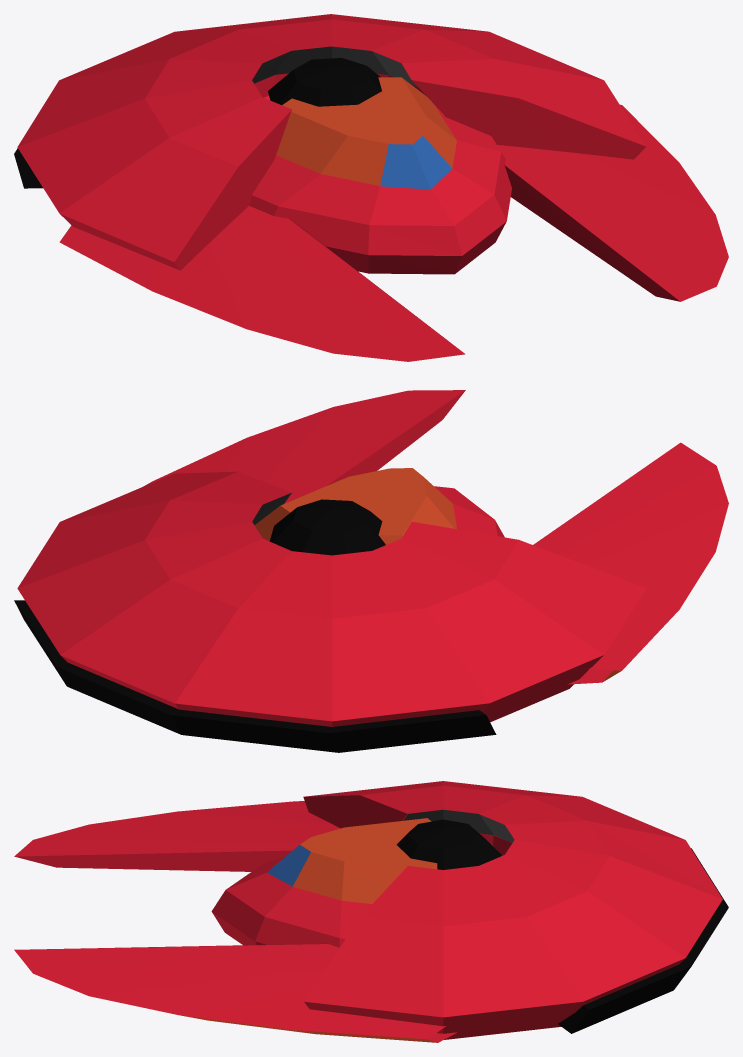
The model's file is cpu.FBX.
3 views of the same model, one above another, from view 1: azimuth 30°, elevation 25°; view 2: azimuth 150°, elevation 25°; view 3: azimuth 270°, elevation 25° (orthographic). The views are drawn at different scales.
Visible parts, largest first — view 1: VIFS002, VIFS008, VIFS007, VIFS005, VIFS006, VIFS001; view 2: VIFS002, VIFS004, VIFS007, VIFS005, VIFS008; view 3: VIFS002, VIFS008, VIFS007, VIFS004, VIFS005, VIFS001, VIFS006, VIFS003.
Boxes of the visible parts, x1,y1,x2,y2 form: VIFS002: [17, 14, 728, 361]; VIFS008: [249, 104, 511, 274]; VIFS007: [276, 77, 456, 185]; VIFS005: [268, 58, 381, 106]; VIFS006: [380, 136, 452, 189]; VIFS001: [252, 46, 443, 114]; VIFS002: [17, 390, 728, 726]; VIFS004: [14, 600, 496, 752]; VIFS007: [254, 468, 456, 544]; VIFS005: [269, 499, 385, 555]; VIFS008: [262, 486, 504, 540]; VIFS002: [14, 781, 722, 1042]; VIFS008: [211, 857, 371, 947]; VIFS007: [293, 818, 437, 903]; VIFS004: [558, 848, 728, 1033]; VIFS005: [396, 819, 502, 869]; VIFS001: [403, 809, 514, 865]; VIFS006: [267, 845, 310, 886]; VIFS003: [180, 1015, 437, 1042].
Bounding box in the file's own units: 1.35 × 0.3882 × 1.67.
